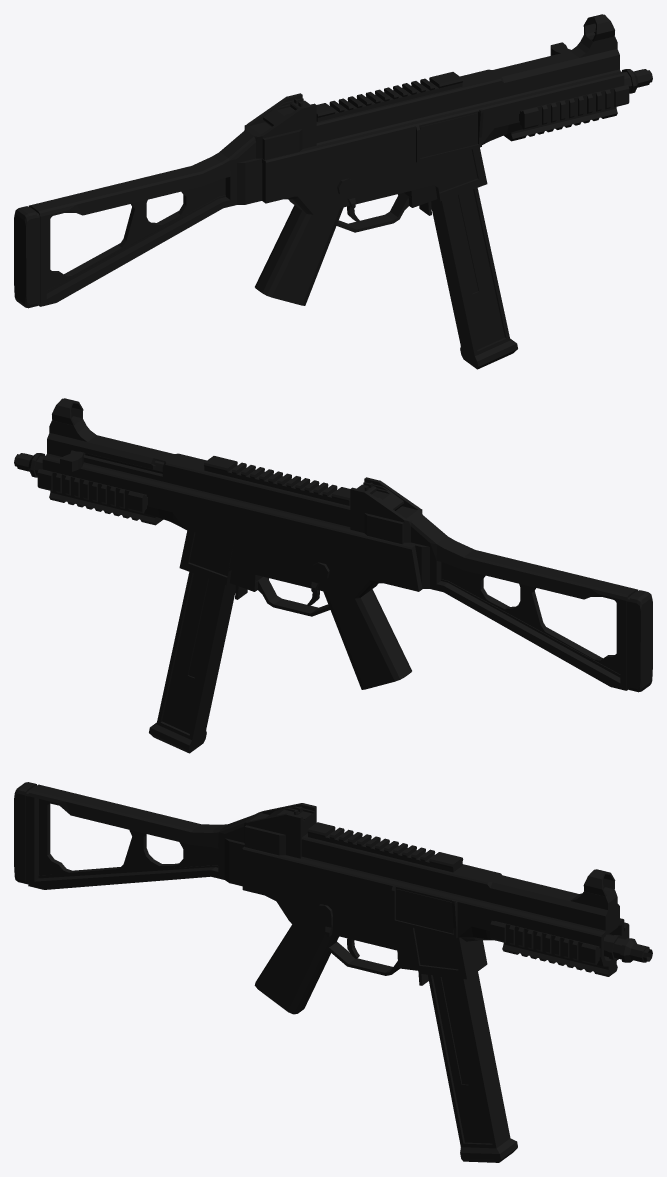
Rendered from UMP.fbx.
3 renders of one model, top to bottom at view 1: azimuth 30°, elevation 25°; view 2: azimuth 150°, elevation 25°; view 3: azimuth 330°, elevation 25°, orthographic.
Visible parts, largest first — view 1: Base, Stock, Mag, Right Rail, Chamber Cover; view 2: Base, Stock, Mag, Left Rail, Cocking Handle; view 3: Base, Stock, Mag, Right Rail, Chamber Cover.
Part boxes in pixels (x1=…): Base: x1=244, y1=14, x2=652, y2=305; Stock: x1=14, y1=124, x2=262, y2=308; Mag: x1=431, y1=188, x2=517, y2=369; Right Rail: x1=519, y1=85, x2=629, y2=129; Chamber Cover: x1=420, y1=113, x2=477, y2=157; Base: x1=14, y1=398, x2=422, y2=689; Stock: x1=404, y1=508, x2=652, y2=692; Mag: x1=149, y1=572, x2=235, y2=753; Left Rail: x1=37, y1=469, x2=147, y2=513; Cocking Handle: x1=60, y1=450, x2=163, y2=473; Base: x1=242, y1=803, x2=652, y2=1014; Stock: x1=14, y1=782, x2=261, y2=889; Mag: x1=428, y1=971, x2=517, y2=1162; Right Rail: x1=490, y1=921, x2=600, y2=964; Chamber Cover: x1=396, y1=889, x2=453, y2=933.
Size of the model in its own units: 227 by 109 by 24.51.
